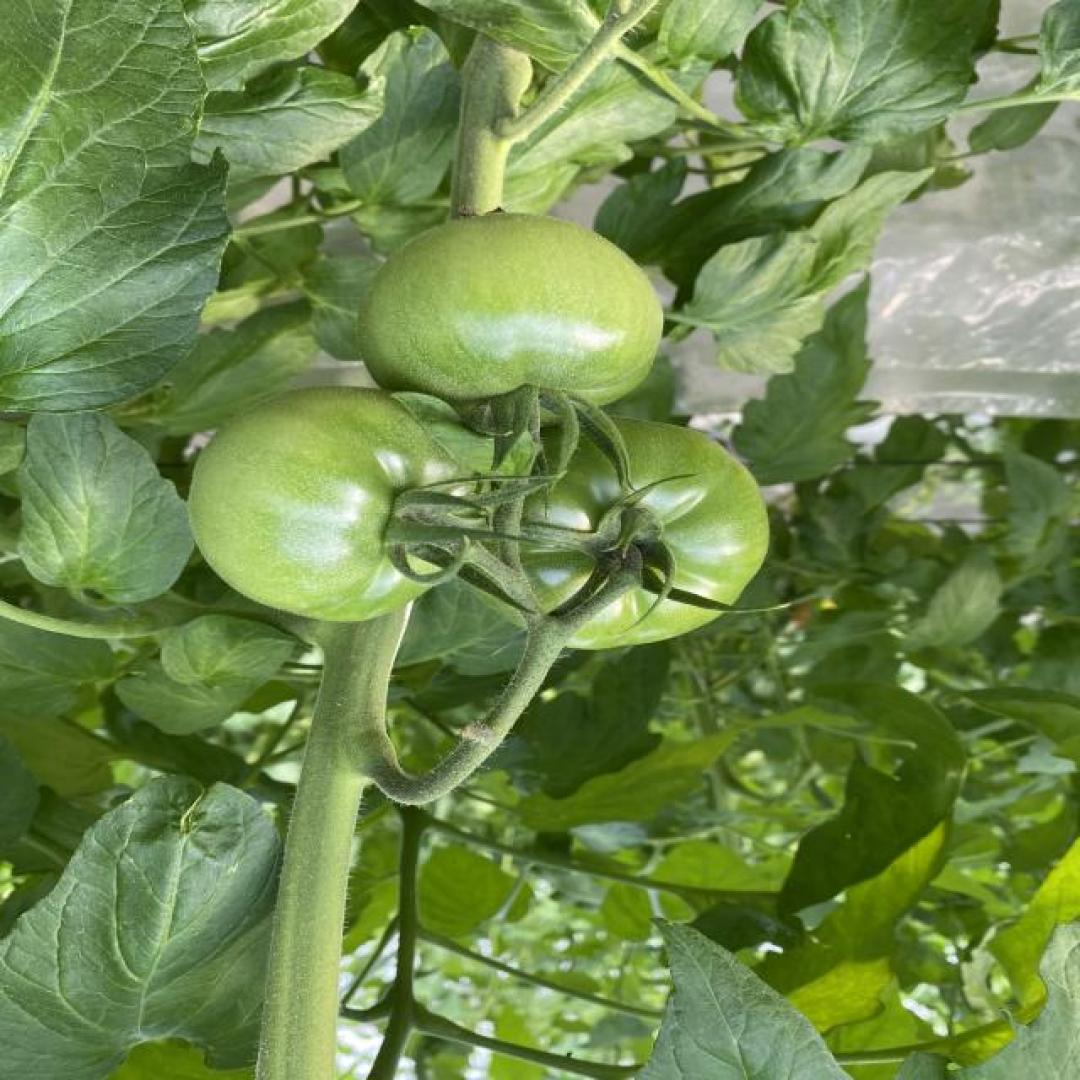mentah: (452, 415, 780, 655), (186, 384, 498, 623), (351, 207, 670, 422)
